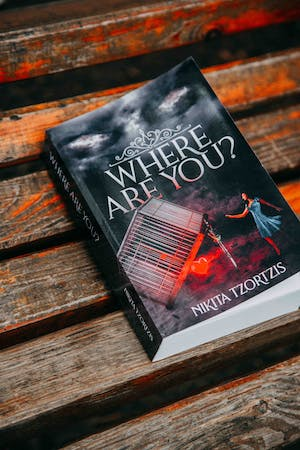book: (39, 54, 300, 367)
